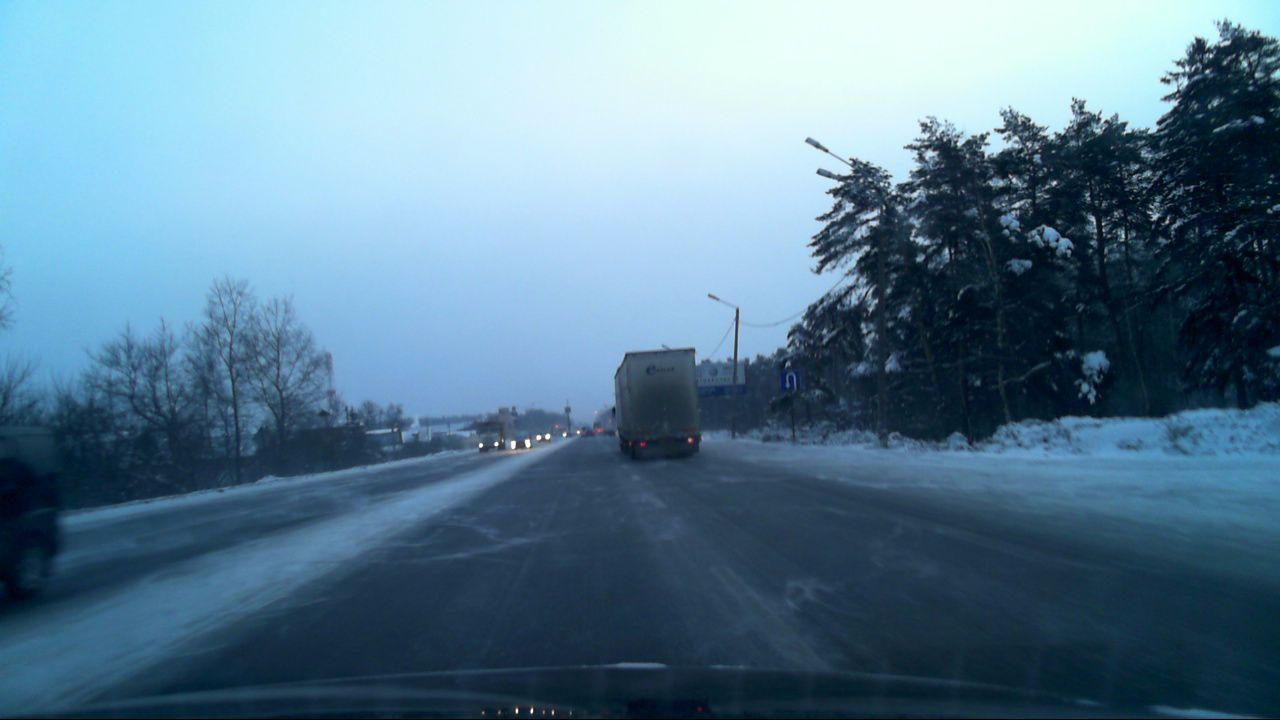6_3_1: (779, 368, 801, 395)
